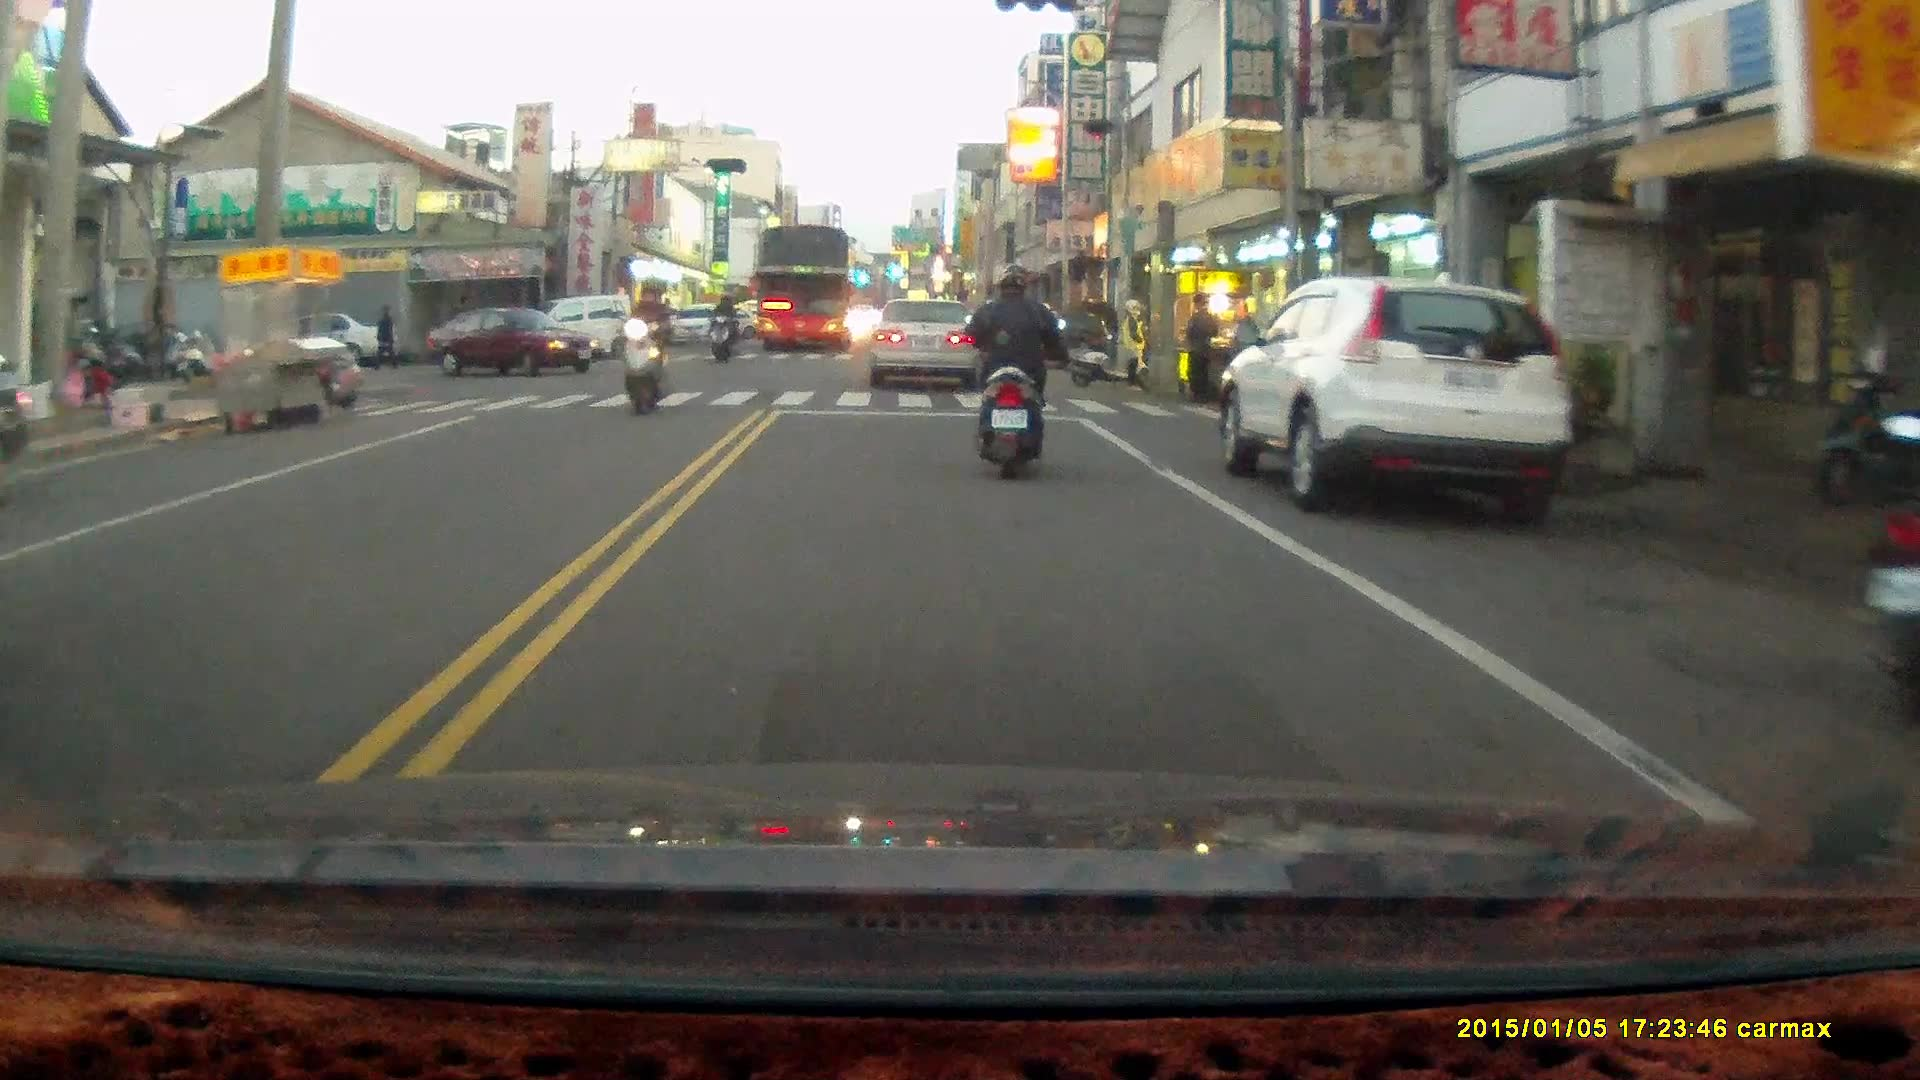pedestrian: (1183, 291, 1216, 405), (1118, 297, 1152, 394), (371, 302, 394, 369)
rider: (960, 261, 1064, 476), (612, 279, 669, 417), (709, 292, 735, 364)
vehicle: (1219, 276, 1573, 516), (744, 227, 858, 353), (434, 304, 597, 379), (867, 299, 978, 393)
